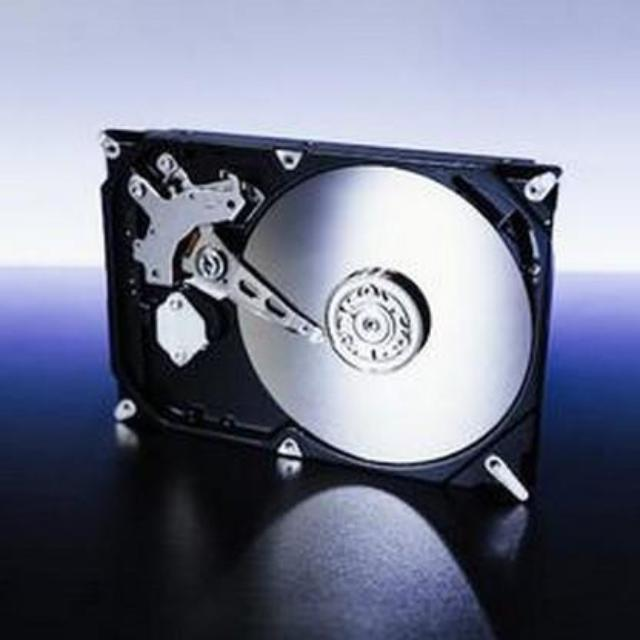DISK: (91, 120, 566, 506)
